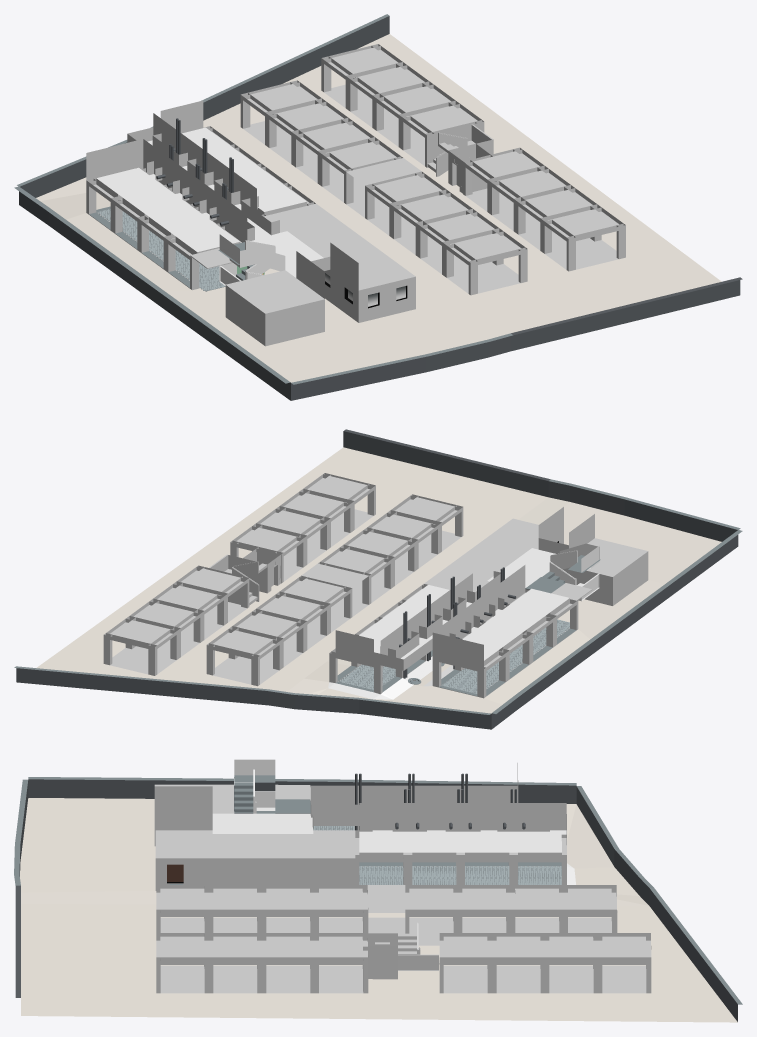
The model's file is Garage-Block1.fbx.
3 renders of one model, top to bottom at view 1: azimuth 30°, elevation 25°; view 2: azimuth 150°, elevation 25°; view 3: azimuth 270°, elevation 25°, orthographic. The views are drawn at different scales.
Parts seen in each view (by area): view 1: Cellar, Steps-1, Floor-hex.001, Steps-2, Liftbox-2; view 2: Cellar, Steps-1, Floor-hex.001, Steps-2, Liftbox-2, Floor-hex, Pipes-1; view 3: Cellar, Floor-hex, Steps-1, Liftbox-2, Steps-2, Liftbox-1, Pipes-2.
Boxes of the visible parts, x1=… form: Cellar: x1=14, y1=14, x2=742, y2=400; Steps-1: x1=218, y1=234, x2=285, y2=285; Floor-hex.001: x1=97, y1=209, x2=225, y2=291; Steps-2: x1=427, y1=124, x2=493, y2=176; Liftbox-2: x1=448, y1=143, x2=492, y2=193; Cellar: x1=14, y1=429, x2=742, y2=729; Steps-1: x1=542, y1=543, x2=600, y2=601; Floor-hex.001: x1=442, y1=619, x2=569, y2=693; Steps-2: x1=209, y1=554, x2=267, y2=605; Liftbox-2: x1=242, y1=547, x2=282, y2=593; Floor-hex: x1=339, y1=664, x2=395, y2=689; Pipes-1: x1=399, y1=576, x2=458, y2=678; Cellar: x1=14, y1=763, x2=742, y2=1022; Floor-hex: x1=359, y1=866, x2=561, y2=884; Steps-1: x1=234, y1=759, x2=275, y2=813; Liftbox-2: x1=363, y1=933, x2=397, y2=979; Steps-2: x1=398, y1=922, x2=439, y2=970; Liftbox-1: x1=275, y1=799, x2=310, y2=813; Pipes-2: x1=355, y1=773, x2=467, y2=830.
Size of the model in its own units: 1754 by 284 by 2414.
Materials: 1 (1 with a texture image).
